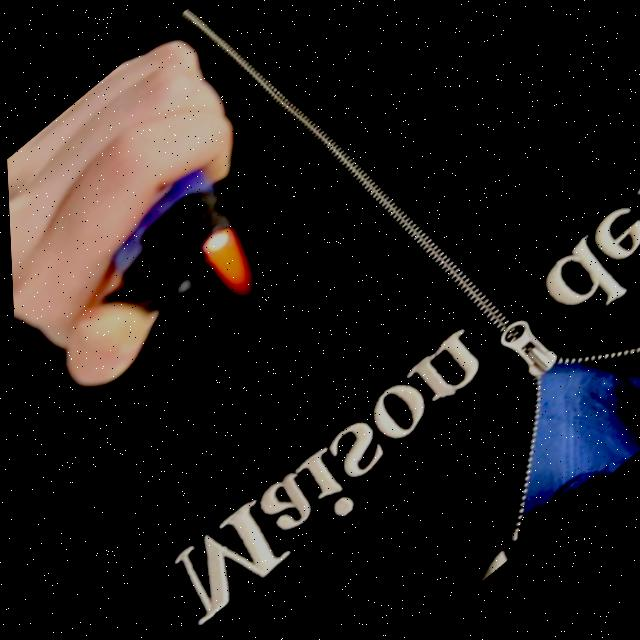Fire: (188, 220, 273, 316)
